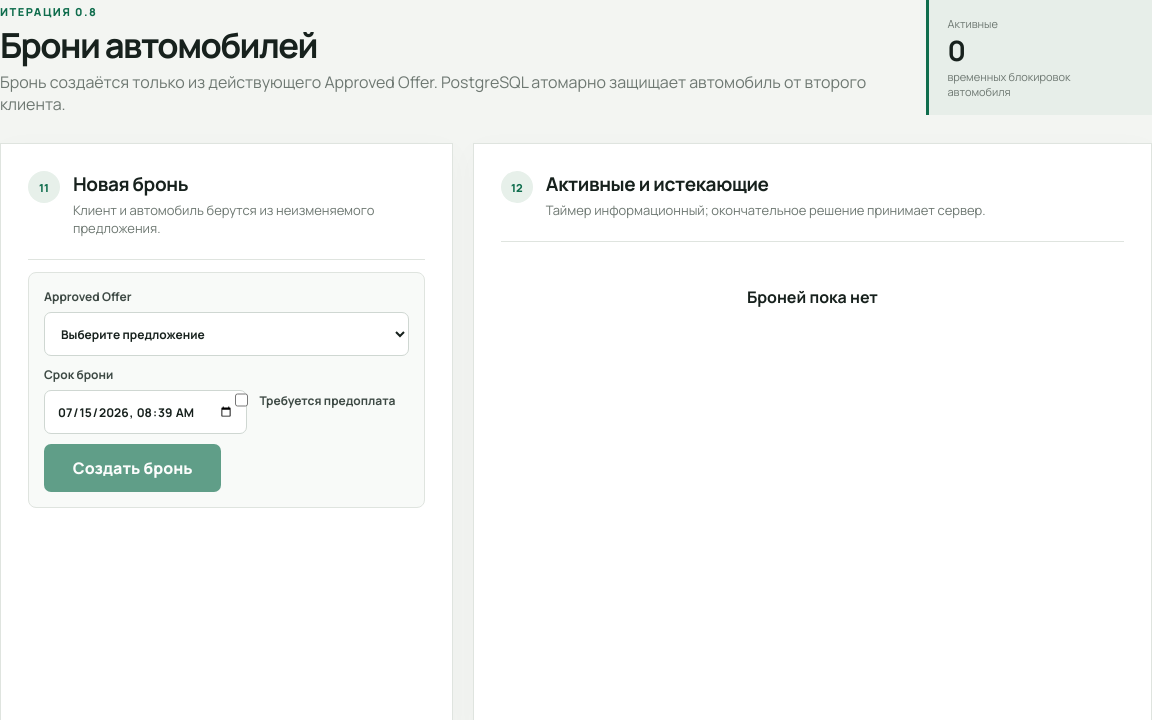
Test case: ReservationsWorkspace › shows a clear conflict when another manager wins the vehicle race
Select "Ирина Клиент · Volkswagen Passat · 1 500 000,00 ₽" in the dropdown named "Approved Offer для брони" at (226, 334), box [44, 312, 409, 356]
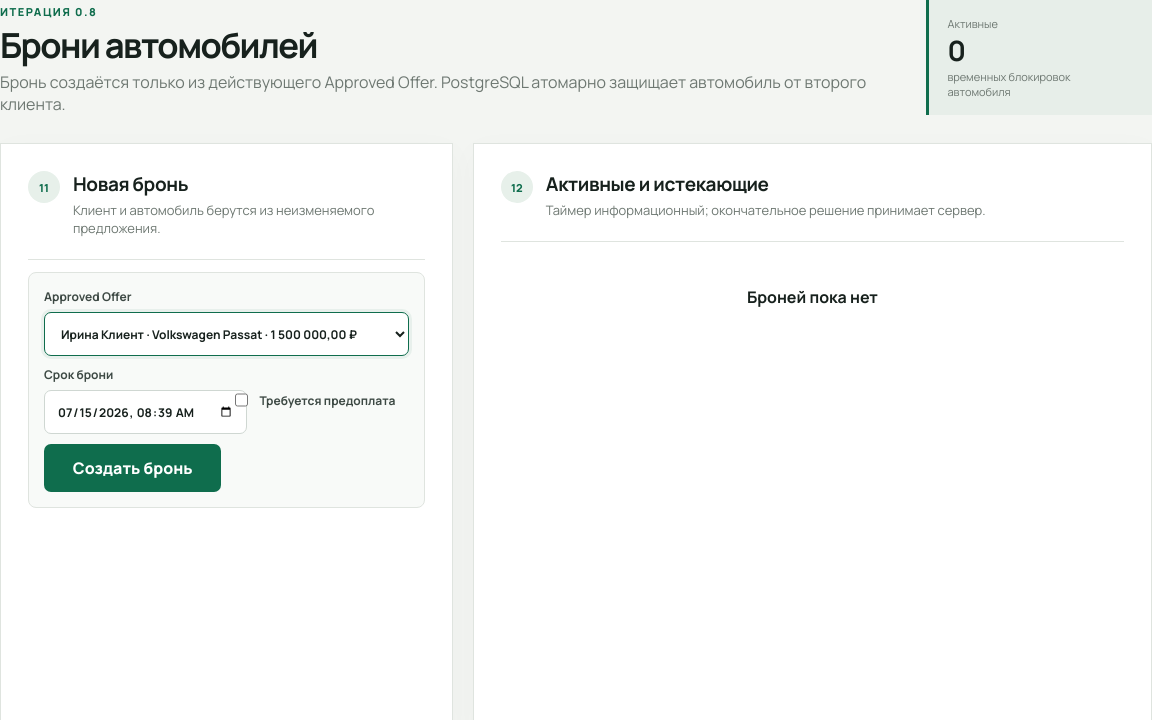
Click the button "Создать бронь".
click(133, 468)  # box [44, 444, 221, 492]
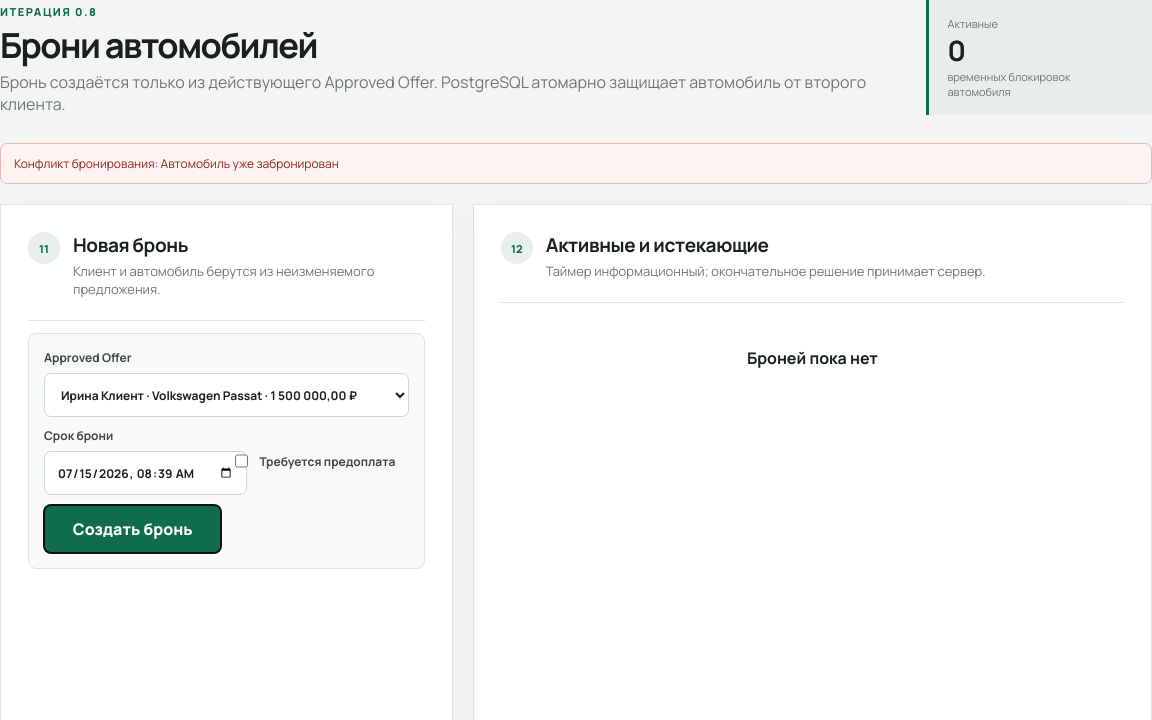
Expected: the message shows "Конфликт бронирования", [14, 155, 339, 172]
